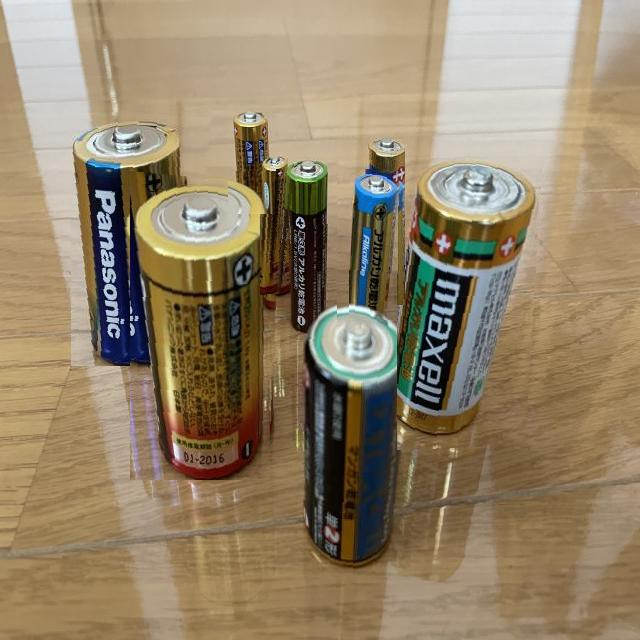battery: (130, 171, 281, 480), (397, 156, 543, 451), (71, 104, 212, 366), (298, 297, 413, 577), (287, 158, 337, 340), (357, 133, 405, 305), (350, 168, 400, 320), (228, 103, 276, 214), (260, 155, 295, 295)
